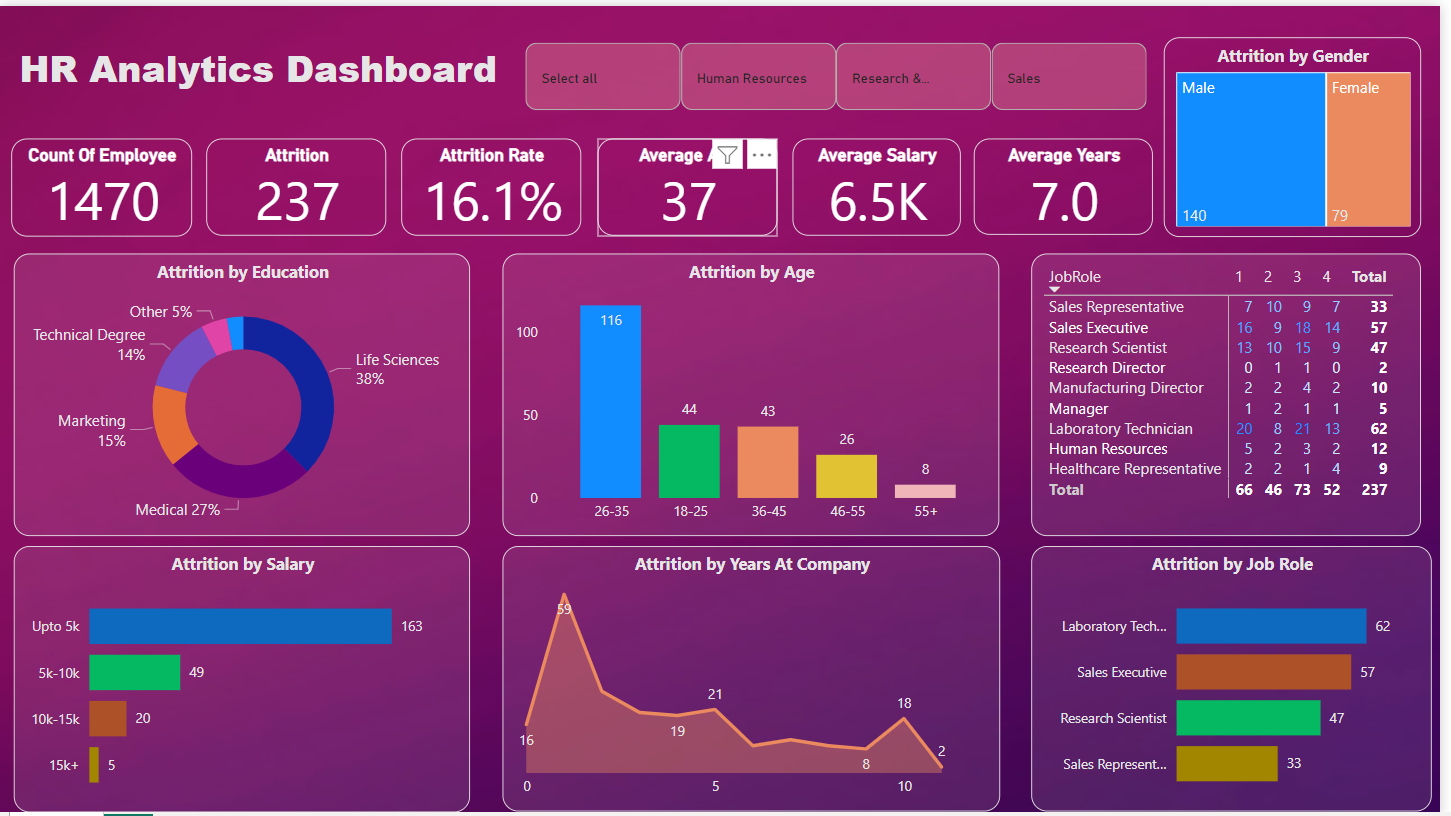

The dashboard page shown, as its layout file describes it:
{"tool":"powerbi","page":{"name":"Page 1","canvas":[1280,720],"ordinal":0},"visuals":[{"type":"card","title":"Count Of Employee","fields":{"Values":["CountNonNull(HR_Analytics.EmpID)"]},"box":[9.5,118.1,160.7,86.9],"z":0},{"type":"card","title":"Attrition","fields":{"Values":["Sum(HR_Analytics.Attrition_count)"]},"box":[183.3,118.1,160,86],"z":1000},{"type":"card","title":"Attrition Rate","fields":{"Values":["HR_Analytics.Attrition Rate"]},"box":[357.1,118.1,160,86],"z":2000},{"type":"card","title":"Average Age","fields":{"Values":["Avg(HR_Analytics.Age)"]},"box":[530.8,118.1,160,86],"z":3000},{"type":"card","title":"Average Salary","fields":{"Values":["Avg(HR_Analytics.MonthlyIncome)"]},"box":[704.6,118.1,149.6,86],"z":4000},{"type":"card","title":"Average Years","fields":{"Values":["Avg(HR_Analytics.YearsAtCompany)"]},"box":[865.2,118.1,159.5,85.7],"z":5000},{"type":"donutChart","title":"Attrition  by Education","fields":{"Category":["HR_Analytics.EducationField"],"Y":["Sum(HR_Analytics.Attrition_count)"]},"box":[11.9,220.4,405.8,251.1],"z":6000},{"type":"columnChart","title":"Attrition  by Age","fields":{"Category":["HR_Analytics.AgeGroup"],"Y":["Sum(HR_Analytics.Attrition_count)"]},"box":[446.3,220.4,441.5,251.1],"z":7000},{"type":"pivotTable","fields":{"Rows":["HR_Analytics.JobRole"],"Columns":["HR_Analytics.JobSatisfaction"],"Values":["HR_Analytics.Attrition Count"]},"box":[916.4,220.4,346.3,251.1],"z":8000},{"type":"barChart","title":"Attrition  by Salary","fields":{"Category":["HR_Analytics.SalarySlab"],"Y":["Sum(HR_Analytics.Attrition_count)"]},"box":[11.9,479.8,405.8,236.8],"z":9000},{"type":"barChart","title":"Attrition  by Job Role","fields":{"Y":["Sum(HR_Analytics.Attrition_count)"],"Category":["HR_Analytics.JobRole"]},"box":[916.4,479.8,355.8,235.6],"z":10000},{"type":"areaChart","title":"Attrition  by Years At Company","fields":{"Category":["HR_Analytics.YearsAtCompany"],"Y":["Sum(HR_Analytics.Attrition_count)"]},"box":[446.3,479.8,442.7,235.6],"z":11000},{"type":"treemap","title":"Attrition  by Gender","fields":{"Group":["HR_Analytics.Gender"],"Values":["Sum(HR_Analytics.Attrition_count)"]},"box":[1034.2,27.4,228.5,177.3],"z":12000},{"type":"advancedSlicerVisual","fields":{"Values":["HR_Analytics.Department"]},"box":[461.8,27.4,562.9,70.2],"z":13000},{"type":"textbox","box":[11.9,27.4,454.6,59.5],"z":14000}]}

Visuals, with their boxes in screenshot pixels (x1, y1, x2, y2), scaled from the page's 1280x720 canvas onto the 1451x816 screenshot:
"Count Of Employee" card: (11, 134, 193, 232)
"Attrition" card: (208, 134, 389, 231)
"Attrition Rate" card: (405, 134, 586, 231)
"Average Age" card: (602, 134, 783, 231)
"Average Salary" card: (799, 134, 968, 231)
"Average Years" card: (981, 134, 1162, 231)
"Attrition  by Education" donutChart: (13, 250, 474, 534)
"Attrition  by Age" columnChart: (506, 250, 1006, 534)
pivotTable - HR_Analytics.JobRole x HR_Analytics.JobSatisfaction: (1039, 250, 1431, 534)
"Attrition  by Salary" barChart: (13, 544, 474, 812)
"Attrition  by Job Role" barChart: (1039, 544, 1442, 811)
"Attrition  by Years At Company" areaChart: (506, 544, 1008, 811)
"Attrition  by Gender" treemap: (1172, 31, 1431, 232)
advancedSlicerVisual - HR_Analytics.Department: (523, 31, 1162, 111)
textbox: (13, 31, 529, 98)
